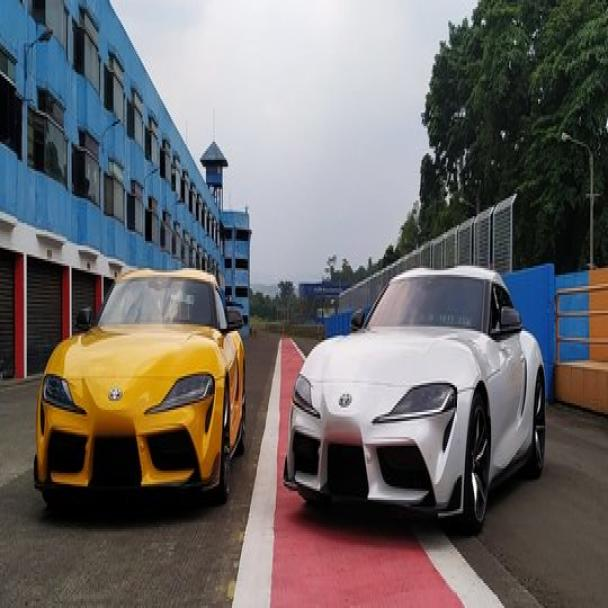Mobil: (280, 263, 548, 538), (29, 263, 249, 507)
